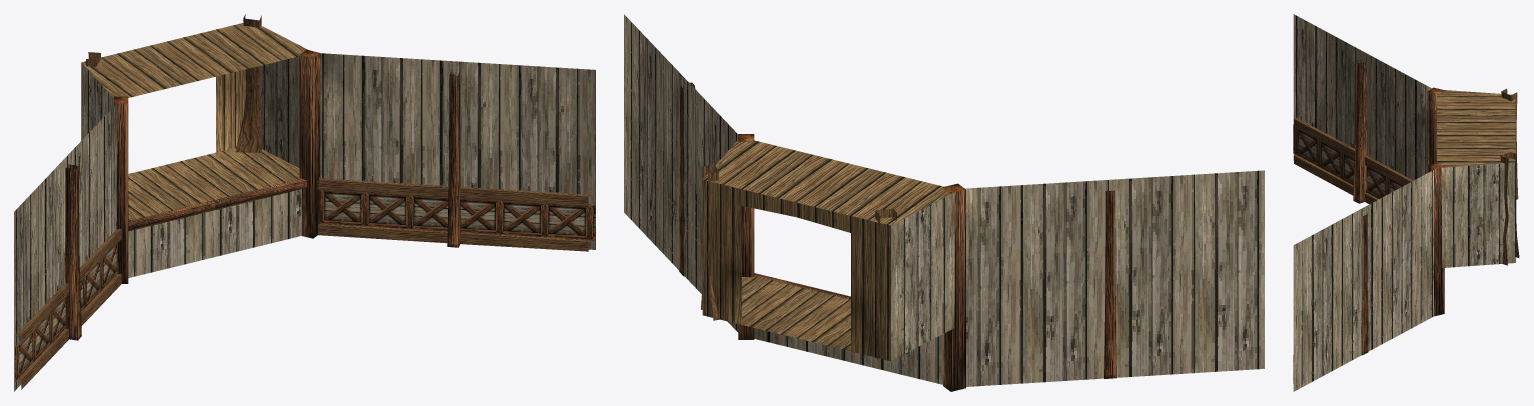
The model's file is LAKETOWN_WAREHOUSE2_PS_WH2_SIDEWALL94848__GX.fbx.
The picture shows the model from 3 angles, left to right: view 1: azimuth 30°, elevation 25°; view 2: azimuth 150°, elevation 25°; view 3: azimuth 270°, elevation 25°; orthographic projection. The views are drawn at different scales.
Visible parts, largest first — view 1: LAKETOWN_WAREHOUSE2_PS_WH2_SIDEWALL94848__GX; view 2: LAKETOWN_WAREHOUSE2_PS_WH2_SIDEWALL94848__GX; view 3: LAKETOWN_WAREHOUSE2_PS_WH2_SIDEWALL94848__GX.
Part boxes in pixels (box(x1,y1,x2,y2)): LAKETOWN_WAREHOUSE2_PS_WH2_SIDEWALL94848__GX: box(14, 14, 595, 391); LAKETOWN_WAREHOUSE2_PS_WH2_SIDEWALL94848__GX: box(624, 14, 1264, 391); LAKETOWN_WAREHOUSE2_PS_WH2_SIDEWALL94848__GX: box(1293, 14, 1519, 391).
Size of the model in its own units: 176348 by 54519 by 72837.
8 materials, 8 textured.
